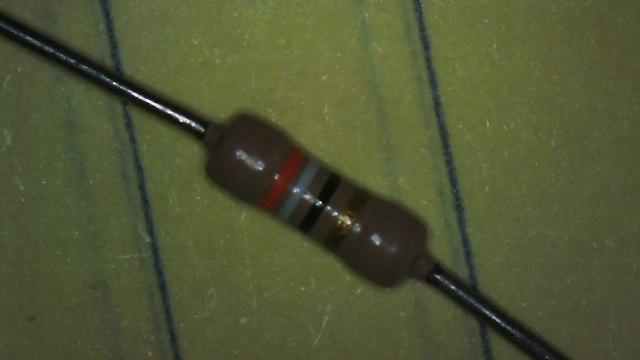black: (298, 172, 341, 234)
gold: (333, 190, 368, 242)
orange: (258, 146, 304, 210)
resistor: (178, 89, 458, 308)
white: (277, 160, 320, 222)
